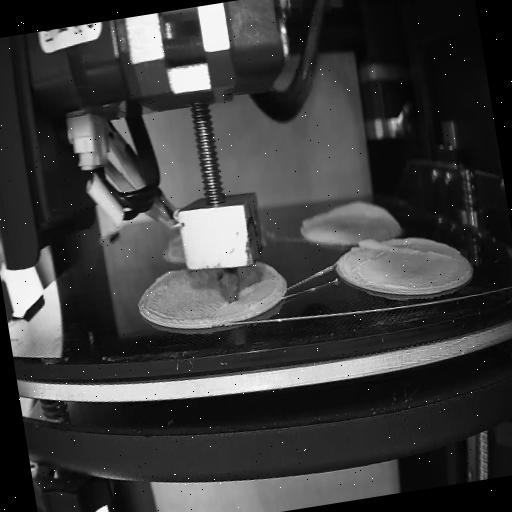over_extrusion: (356, 224, 456, 274), (298, 193, 396, 230), (139, 266, 181, 300), (234, 276, 270, 299)
